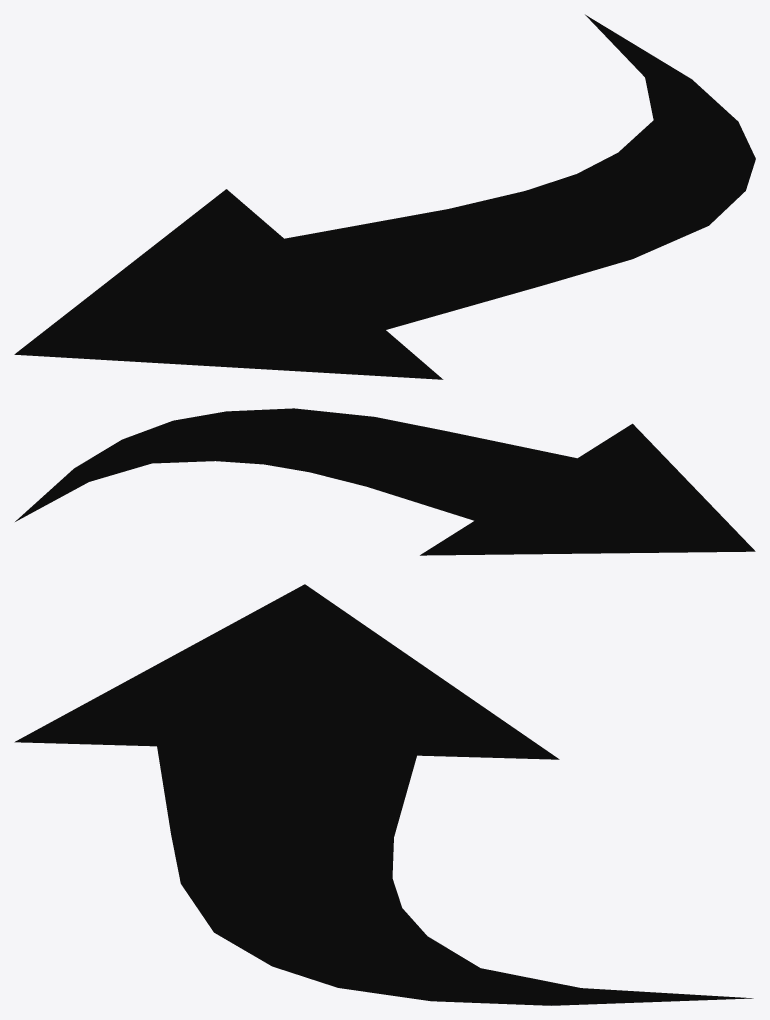
Rendered from arrow_S_01.FBX.
3 renders of one model, top to bottom at view 1: azimuth 30°, elevation 25°; view 2: azimuth 150°, elevation 25°; view 3: azimuth 270°, elevation 25°, orthographic. The views are drawn at different scales.
Parts seen in each view (by area): view 1: Box006; view 2: Box006; view 3: Box006.
Part boxes in pixels (x1,y1,x2,y2): Box006: (14,14,755,379); Box006: (15,408,755,555); Box006: (14,584,753,1005).
Bounding box in the file's own units: 320 × 4.26e-14 × 238.
